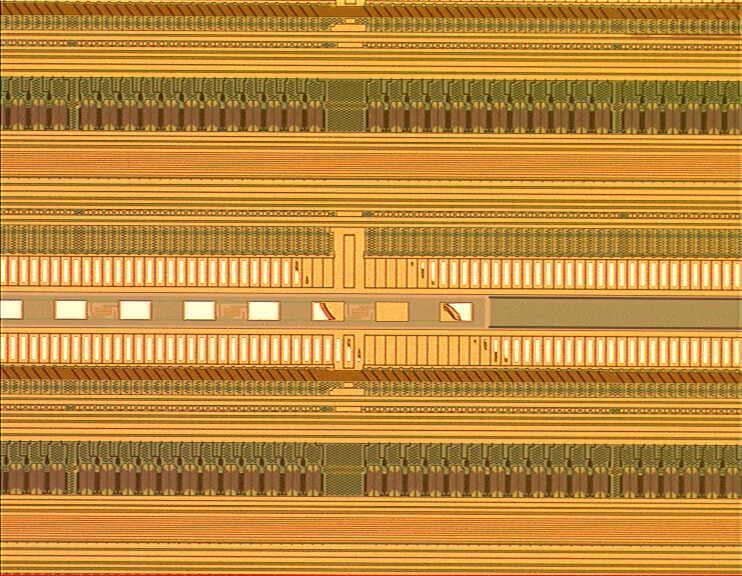COATING BAD: (287, 258, 524, 368)
